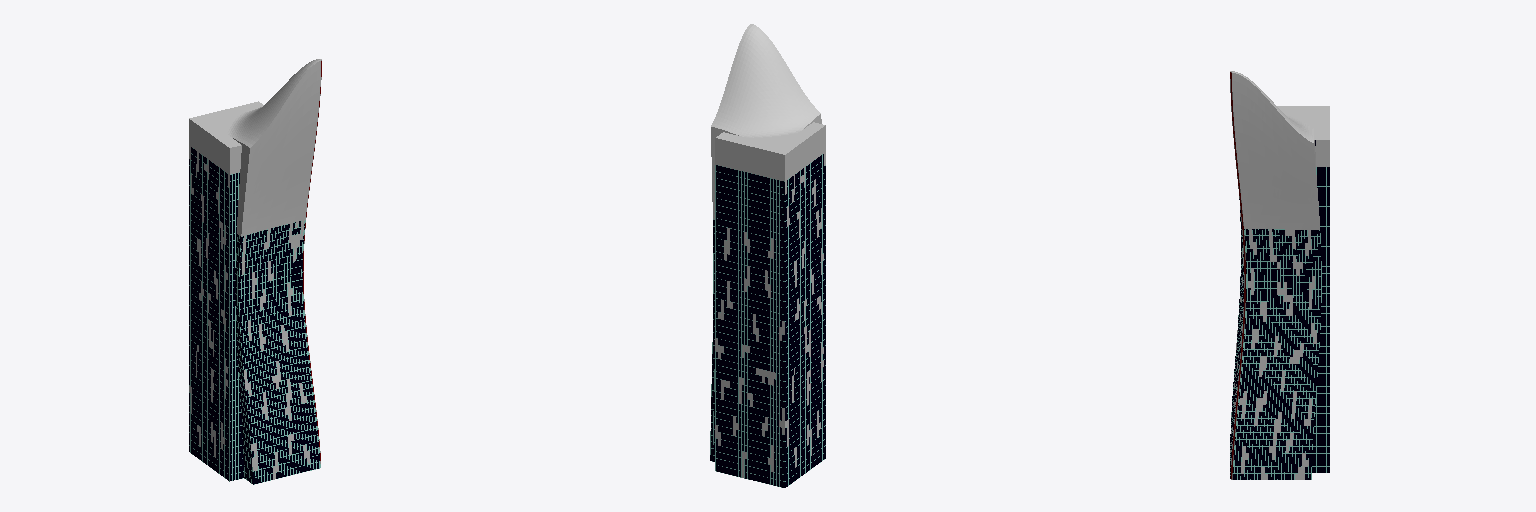
File: Building4.obj
3 views of the same model, side by side, from view 1: azimuth 30°, elevation 25°; view 2: azimuth 150°, elevation 25°; view 3: azimuth 270°, elevation 25° (orthographic).
Visible parts, largest first — view 1: window, White, cadre; view 2: window, White, cadre; view 3: window, White, cadre, Object.
Part boxes in pixels (left/top/right/bottom): window: left=189, top=147, right=319, bottom=484; White: left=189, top=59, right=321, bottom=479; cadre: left=189, top=148, right=320, bottom=484; window: left=710, top=154, right=825, bottom=487; White: left=711, top=24, right=825, bottom=477; cadre: left=710, top=154, right=825, bottom=487; window: left=1230, top=140, right=1329, bottom=479; White: left=1230, top=71, right=1329, bottom=479; cadre: left=1230, top=167, right=1329, bottom=479; Object: left=1230, top=72, right=1245, bottom=478.
Size of the model in its own units: 68.4 by 316 by 70.24.